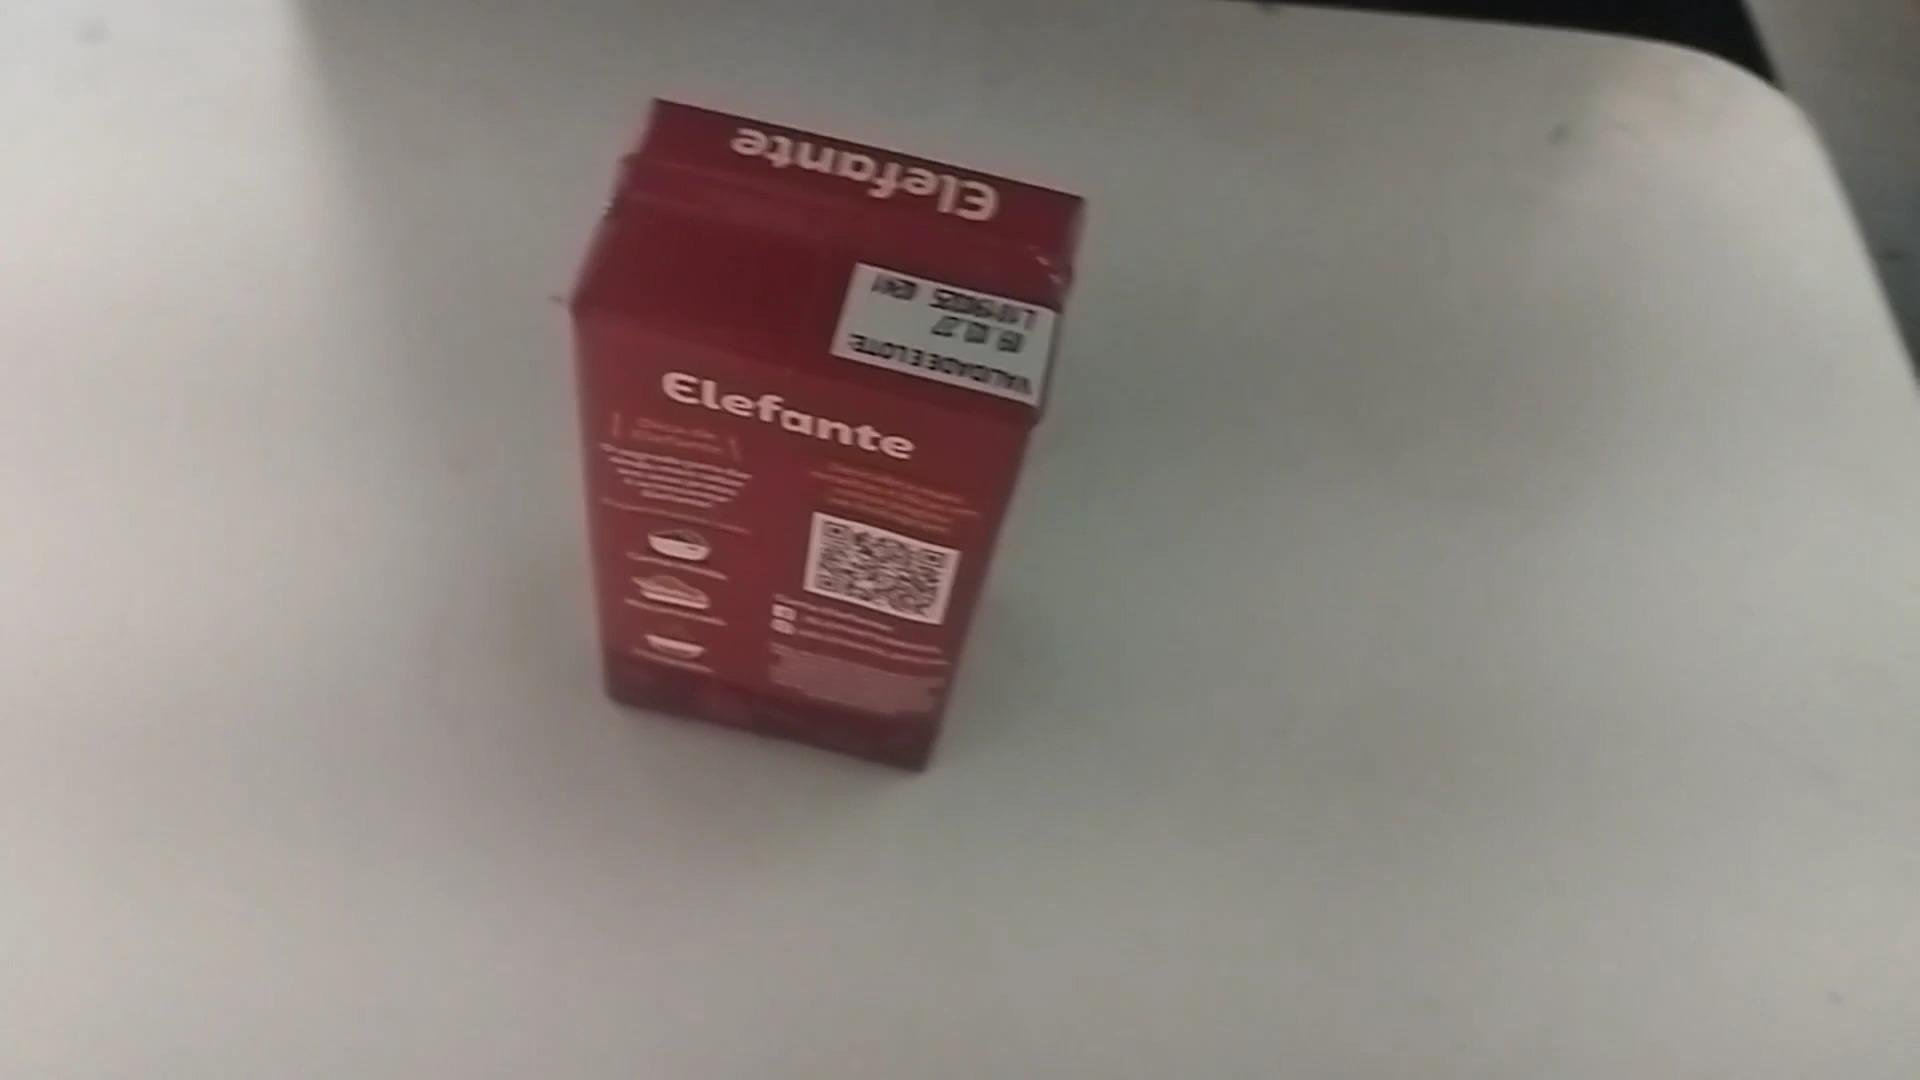tomate: (553, 87, 1120, 777)
